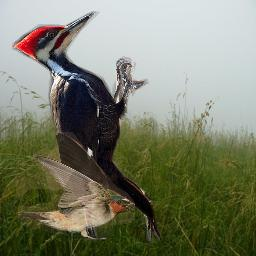Swallow: (16, 132, 135, 240)
Woodpecker: (12, 11, 163, 243)
